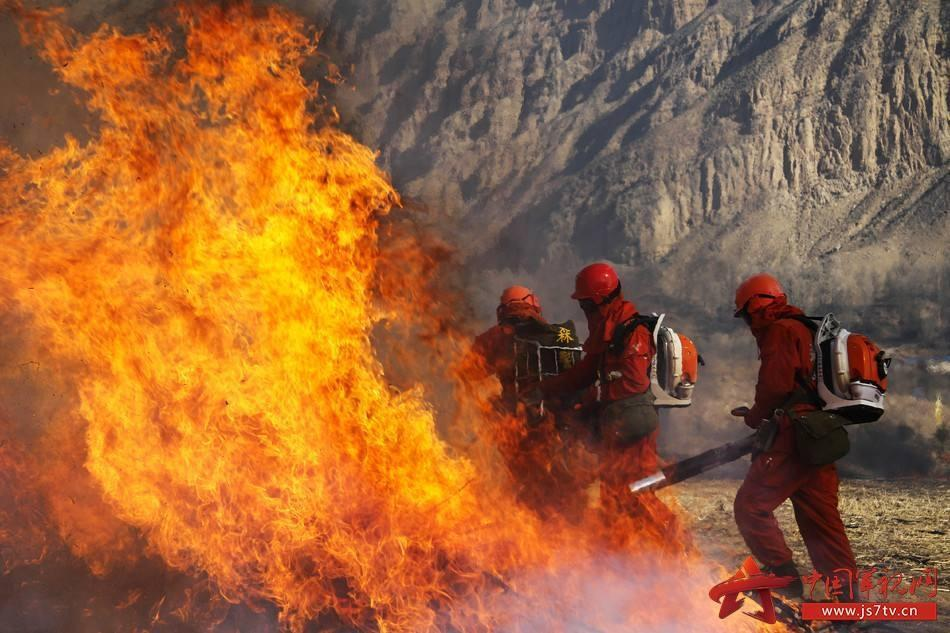fire: (5, 5, 758, 627)
